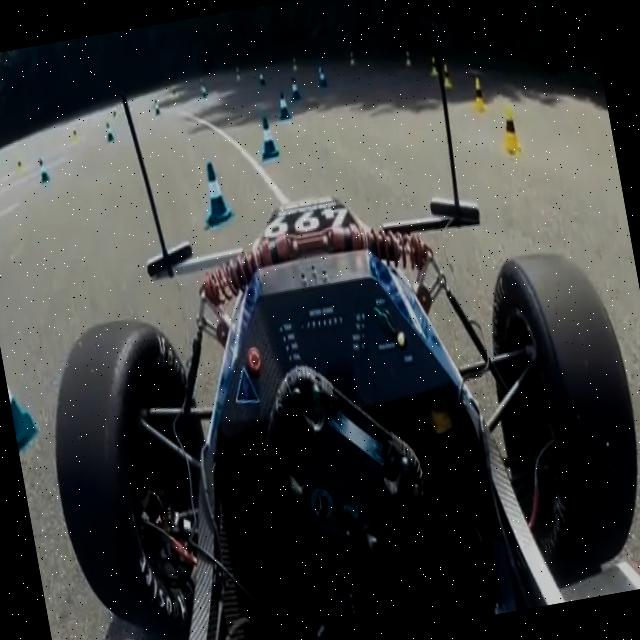blue_cone: (0, 333, 43, 455), (196, 158, 233, 226), (254, 111, 278, 161), (274, 88, 292, 122), (34, 156, 50, 186), (289, 74, 302, 102), (102, 120, 114, 144), (318, 69, 329, 94), (257, 70, 268, 92), (151, 96, 162, 117), (200, 86, 210, 106)
yellow_cone: (498, 100, 527, 158), (470, 76, 488, 114), (440, 61, 454, 87), (427, 54, 439, 78), (402, 46, 414, 70), (230, 59, 242, 82), (14, 156, 26, 178), (168, 85, 180, 107), (346, 45, 358, 66), (111, 105, 122, 127), (289, 53, 299, 72), (71, 124, 81, 142)
